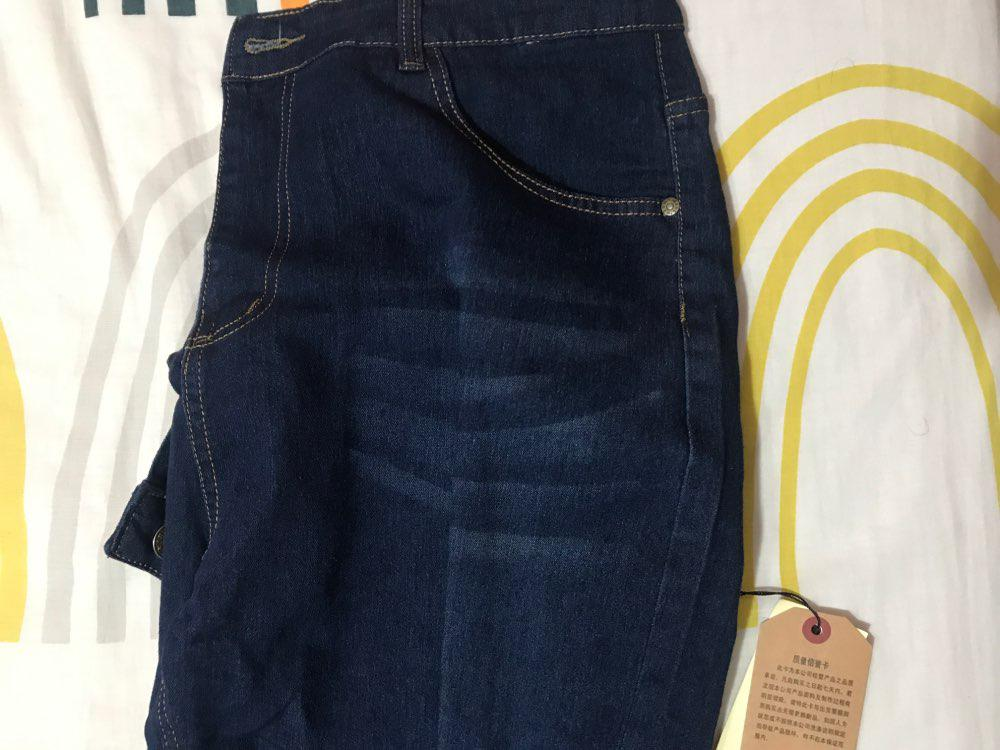jeans: (111, 5, 721, 750)
